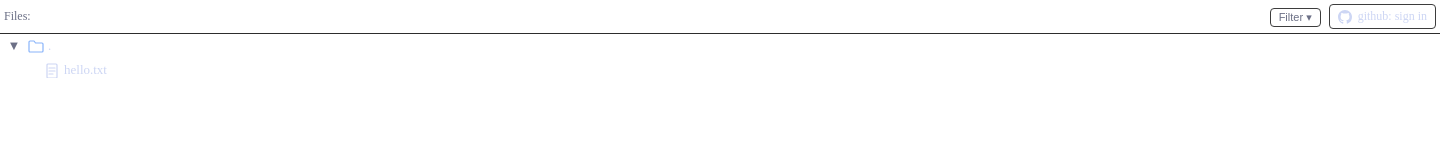
FileTree readOnly / features › hides mutating context menu items when read-only
Right-click the text "hello.txt" at (86, 70), box [64,62,107,78]
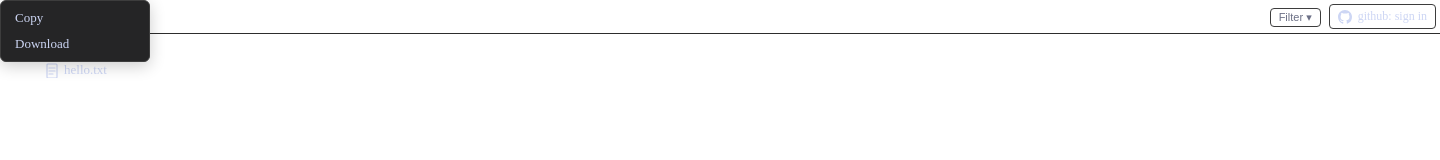
expect the text "Copy" is shown: met, box [15,10,43,25]
